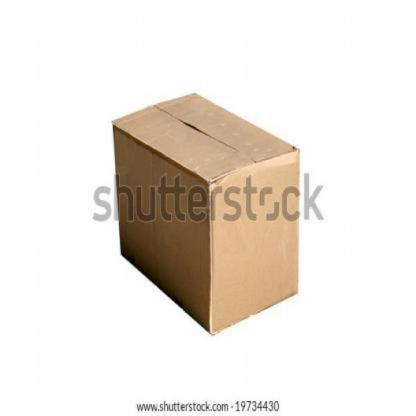box: (95, 77, 318, 343)
